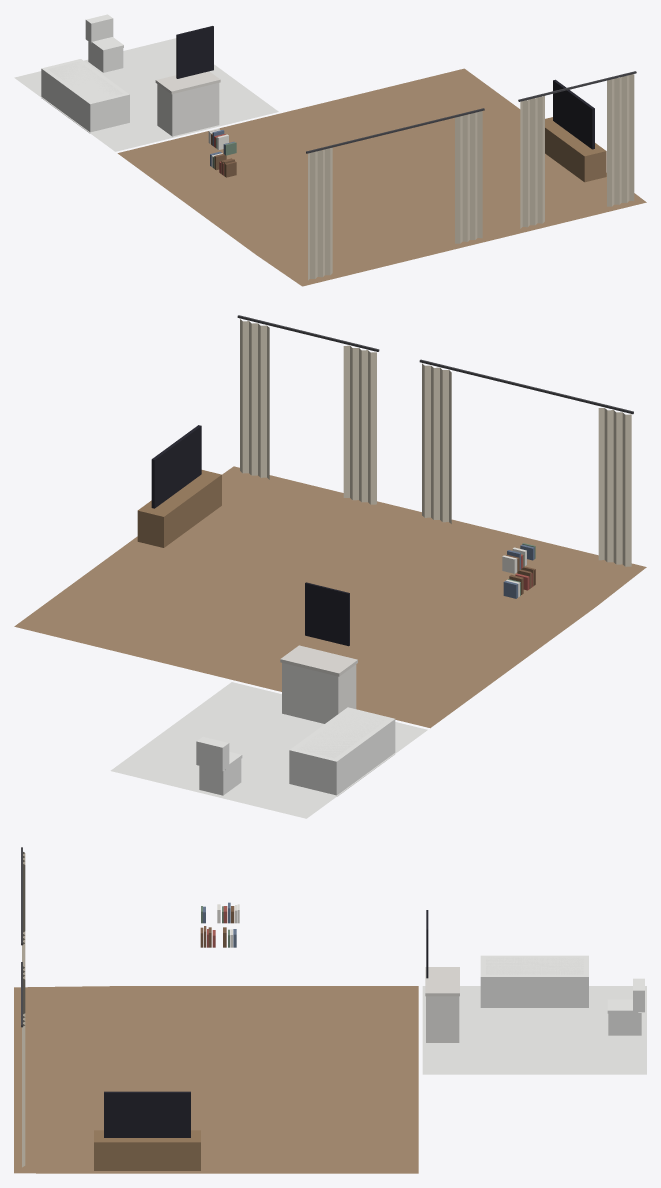
Rendered from fine-s1.glb.
3 renders of one model, top to bottom at view 1: azimuth 30°, elevation 25°; view 2: azimuth 150°, elevation 25°; view 3: azimuth 270°, elevation 25°, orthographic. The views are drawn at different scales.
Parts seen in each view (by area): view 1: soft-s1, vanity.000, bathtub.000, tv-console.000, toilet.000; view 2: soft-s1, vanity.000, bathtub.000, tv-console.000, toilet.000; view 3: soft-s1, tv-console.000, bathtub.000, vanity.000, toilet.000.
Part boxes in pixels (left/top/right/bottom): soft-s1: left=14, top=38, right=646, bottom=286; vanity.000: left=155, top=26, right=220, bottom=136; bathtub.000: left=41, top=59, right=129, bottom=133; tv-console.000: left=545, top=79, right=606, bottom=182; toilet.000: left=85, top=14, right=123, bottom=72; soft-s1: left=14, top=315, right=646, bottom=818; vanity.000: left=280, top=582, right=357, bottom=723; bathtub.000: left=289, top=707, right=395, bottom=796; tv-console.000: left=137, top=425, right=221, bottom=547; toilet.000: left=196, top=736, right=242, bottom=795; soft-s1: left=14, top=847, right=646, bottom=1173; tv-console.000: left=94, top=1091, right=200, bottom=1170; bathtub.000: left=480, top=955, right=588, bottom=1007; vanity.000: left=425, top=910, right=459, bottom=1042; toilet.000: left=607, top=978, right=644, bottom=1035.
Size of the model in its own units: 6.64 by 2.41 by 9.48.
